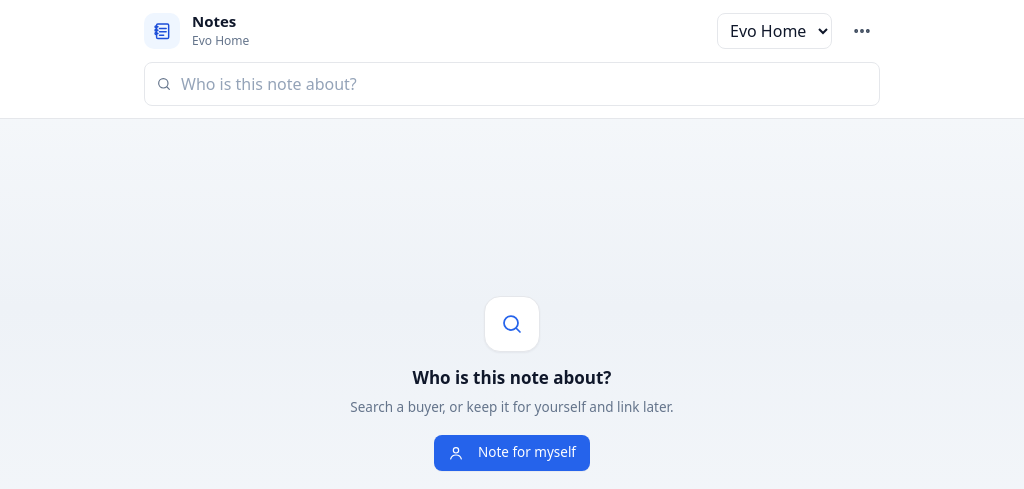
Test: VisitNotesApp › keeps lead search at 16px and shows truncated readable hits while searching
expect the heading "Who is this note about?" is shown: met, box x1=412 y1=364 x2=612 y2=391
Type "Ada" into the field with test id "notes-lead-search" at [512, 84], box x1=144 y1=62 x2=880 y2=106
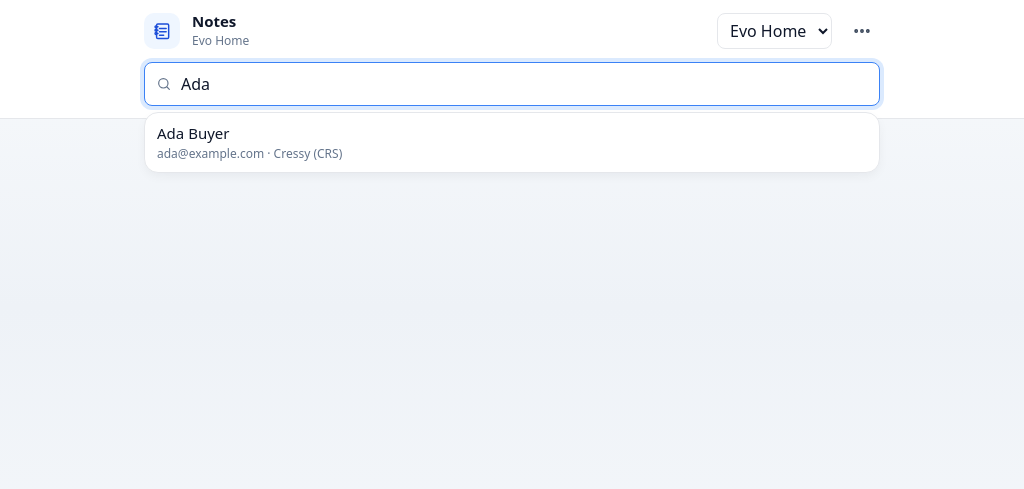
expect the list with test id "notes-lead-hits" is shown: met, box x1=144 y1=112 x2=880 y2=173
expect the heading "Who is this note about" is gone: met
